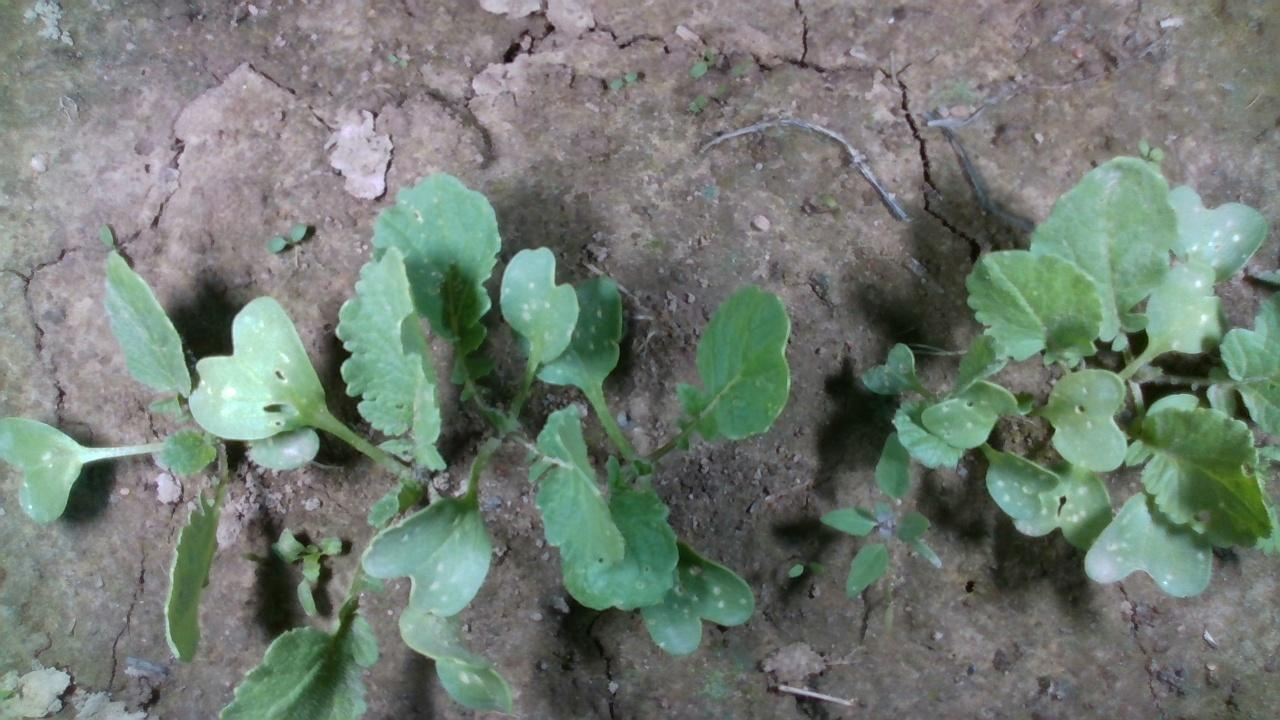weed: (265, 220, 307, 254), (785, 558, 826, 579), (607, 69, 638, 90)
